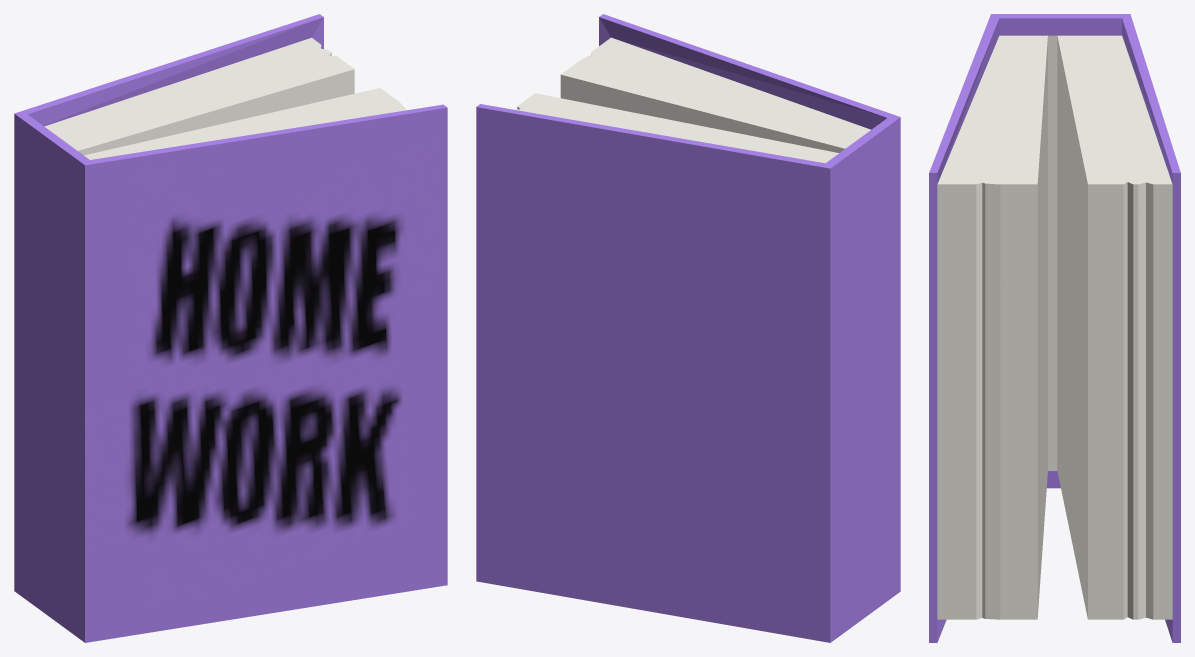
File: Book_broken.FBX
3 renders of one model, left to right at view 1: azimuth 30°, elevation 25°; view 2: azimuth 150°, elevation 25°; view 3: azimuth 270°, elevation 25°, orthographic.
Parts seen in each view (by area): view 1: shu_Part_3, shu_Part_1, shu_Part_2, 对象; view 2: shu_Part_1, 对象, 对象001, shu_Part_3; view 3: 对象001, shu_Part_2, shu_Part_3, 对象, shu_Part_1.
Part boxes in pixels (<box>): shu_Part_3: <box>54,88,447,589</box>; shu_Part_1: <box>14,176,250,642</box>; shu_Part_2: <box>245,245,447,617</box>; 对象: <box>14,14,354,278</box>; shu_Part_1: <box>645,230,900,642</box>; 对象: <box>477,93,870,436</box>; 对象001: <box>476,106,676,616</box>; shu_Part_3: <box>560,14,900,307</box>; 对象001: <box>1071,172,1180,642</box>; shu_Part_2: <box>929,265,1043,642</box>; shu_Part_3: <box>929,14,1052,469</box>; 对象: <box>1051,14,1180,450</box>; shu_Part_1: <box>1043,161,1072,535</box>.
Bounding box in the file's own units: 4.27 × 5.88 × 2.86.
